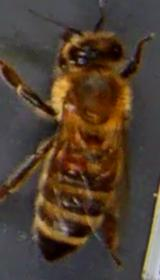varroa_mite: (60, 148, 90, 173)
